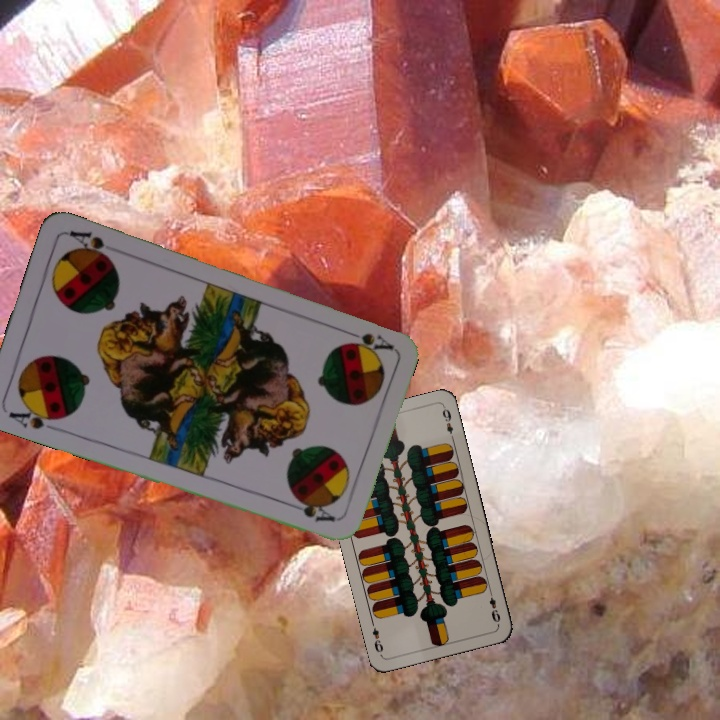E9: (485, 587, 503, 625)
SA: (4, 401, 64, 432), (338, 324, 395, 353)
